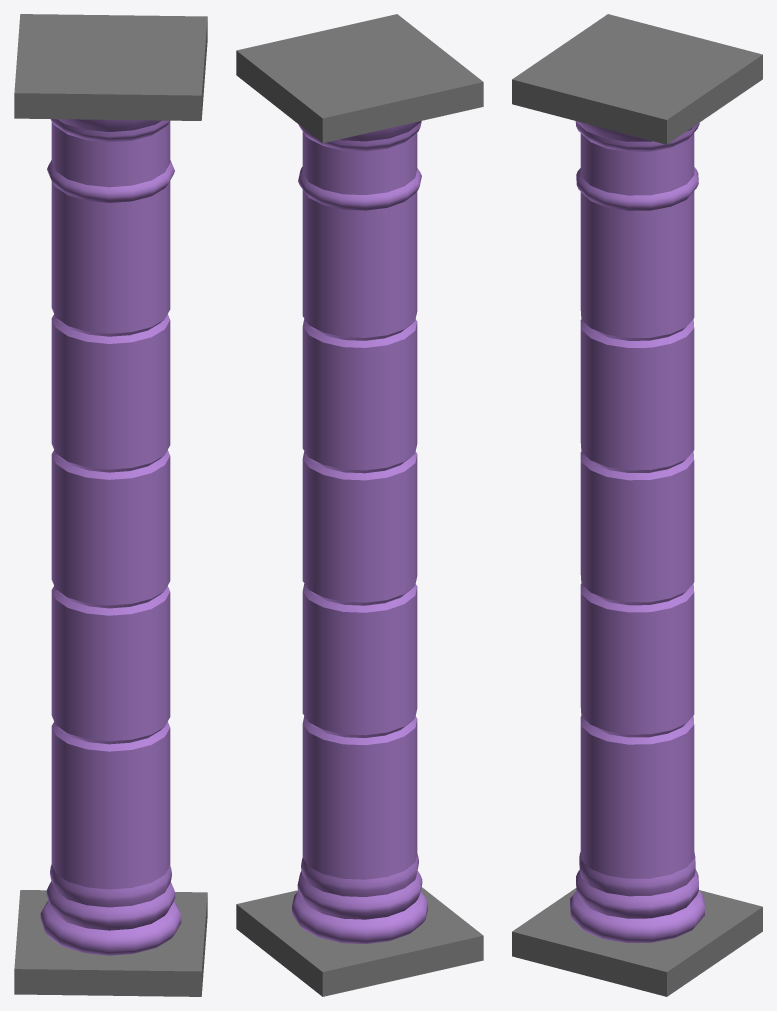
The model's file is Columna002.fbx.
The picture shows the model from 3 angles, left to right: view 1: azimuth 30°, elevation 25°; view 2: azimuth 150°, elevation 25°; view 3: azimuth 270°, elevation 25°; orthographic projection. The views are drawn at different scales.
Visible parts, largest first — view 1: Cylinder025, Box050, Box051; view 2: Cylinder025, Box050, Box051; view 3: Cylinder025, Box050, Box051.
Part boxes in pixels (x1,y1,x2,y2): Cylinder025: (40, 119, 181, 955); Box050: (14, 14, 207, 120); Box051: (14, 890, 207, 996); Cylinder025: (292, 121, 427, 943); Box050: (236, 14, 483, 143); Box051: (236, 887, 483, 996); Cylinder025: (570, 121, 704, 942); Box050: (512, 14, 762, 144); Box051: (512, 888, 762, 996).
Bounding box in the file's own units: 138 × 531 × 138.
